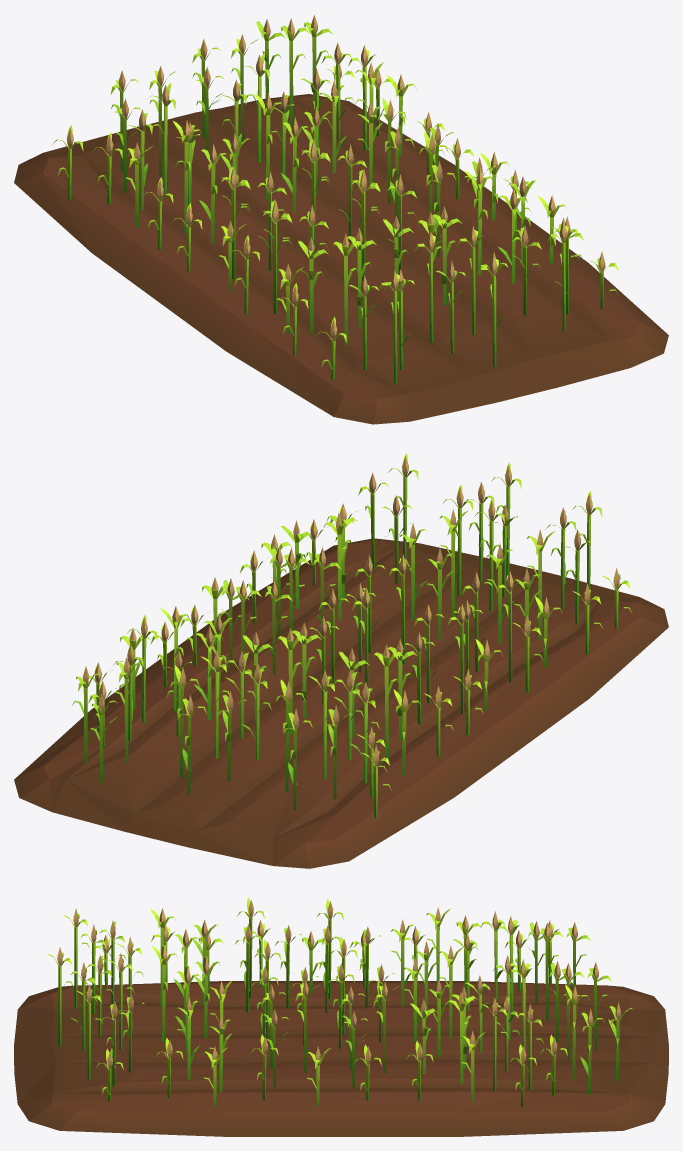
Rendered from field.glb.
The picture shows the model from 3 angles, top to bottom: view 1: azimuth 30°, elevation 25°; view 2: azimuth 150°, elevation 25°; view 3: azimuth 270°, elevation 25°; orthographic projection. The views are drawn at different scales.
Visible parts, largest first — view 1: MAT_MAIN; view 2: MAT_MAIN; view 3: MAT_MAIN.
Boxes of the visible parts, <box> form: MAT_MAIN: <box>14,15,668,424</box>; MAT_MAIN: <box>14,453,668,868</box>; MAT_MAIN: <box>14,897,668,1136</box>.
Bounding box in the file's own units: 7.15 × 2.34 × 12.7.
Materials: 1 (1 with a texture image).
